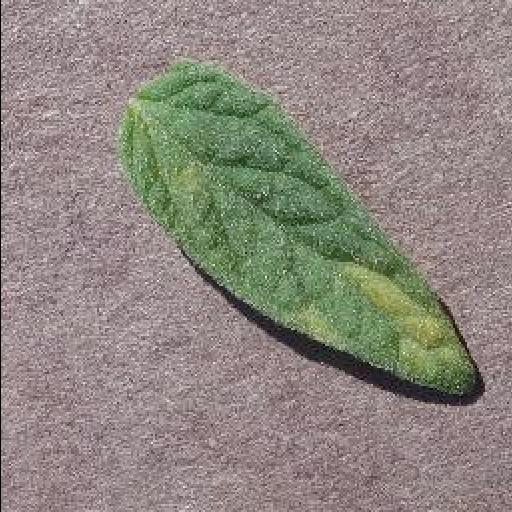disease_tomato: (124, 59, 482, 400)
